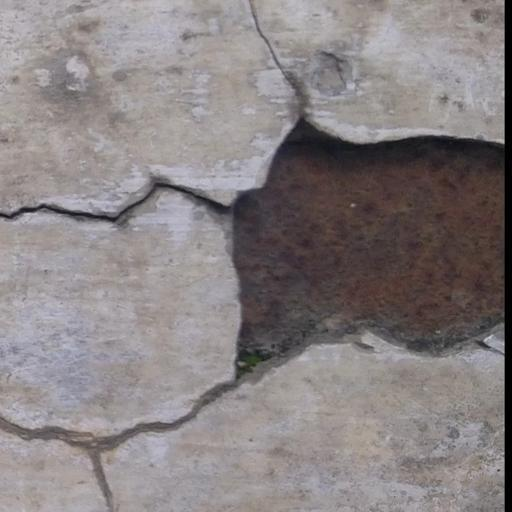spalling: (169, 58, 512, 406)
